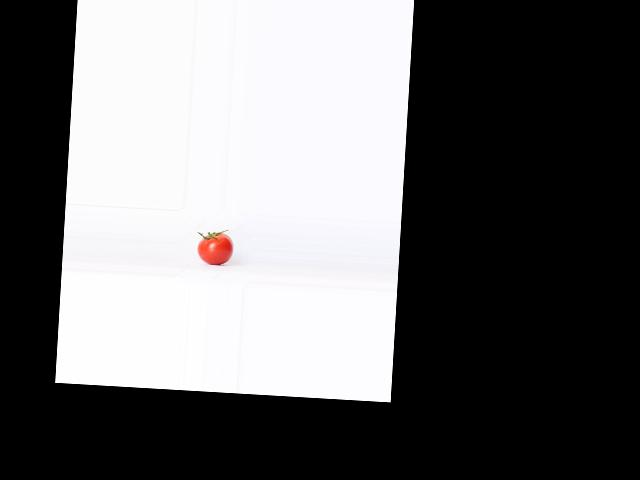tomato: (197, 232, 235, 266)
